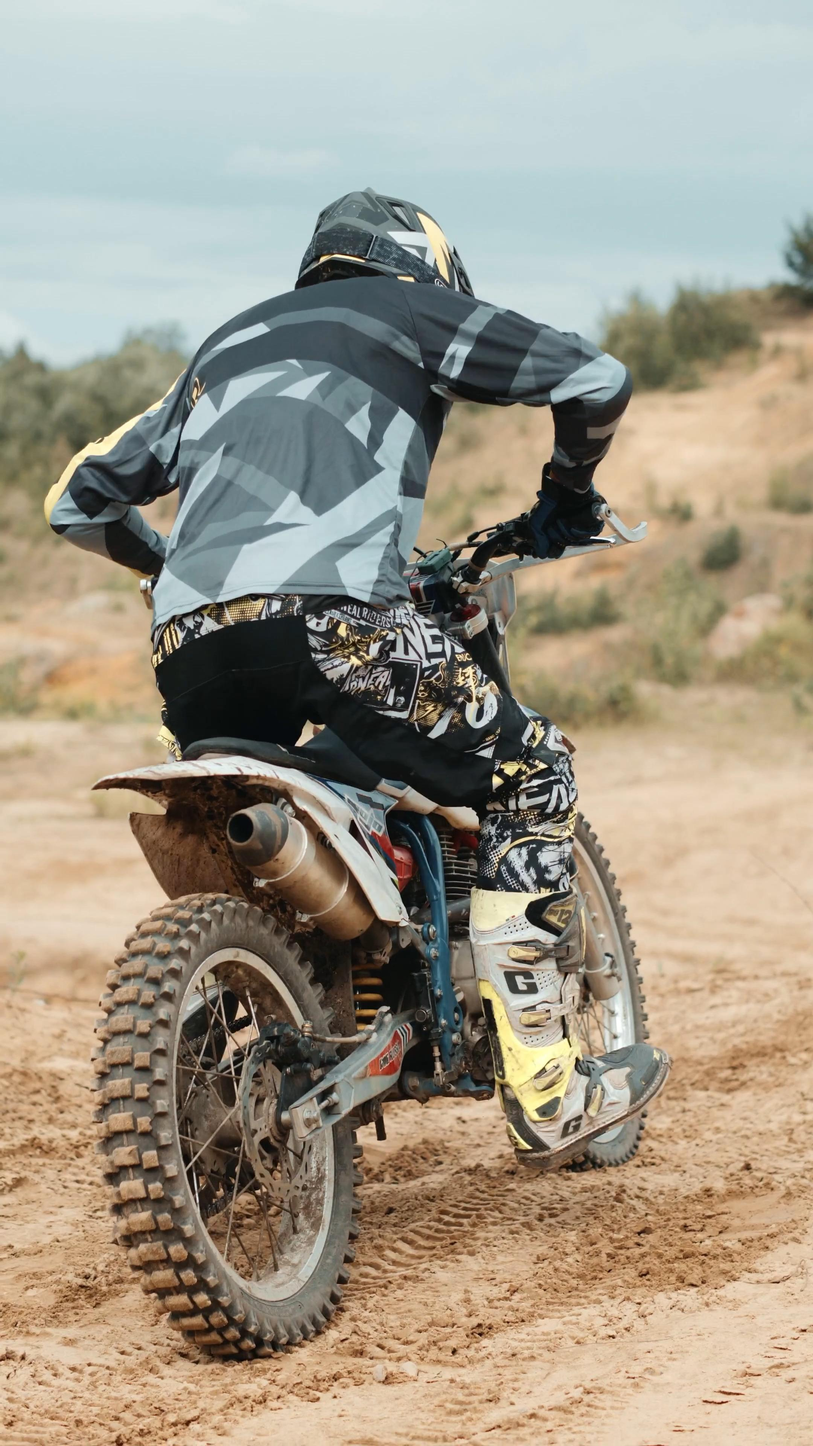driver: (41, 191, 672, 1360)
helmet: (294, 190, 477, 298)
